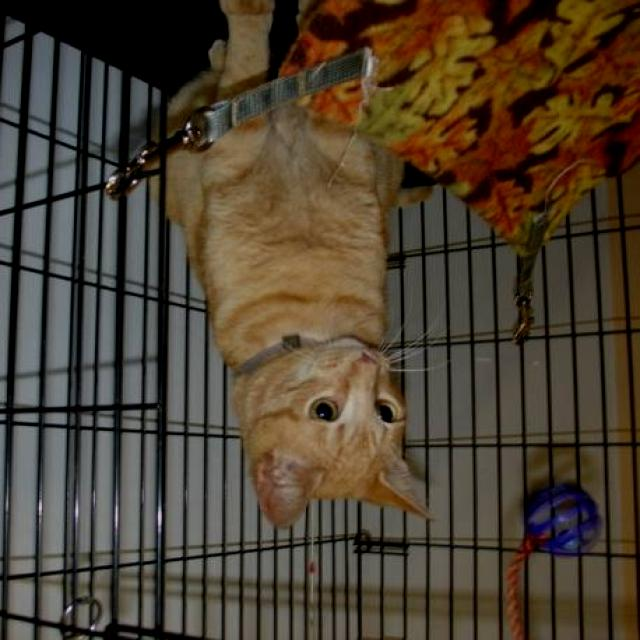Kucing: (134, 59, 470, 569)
